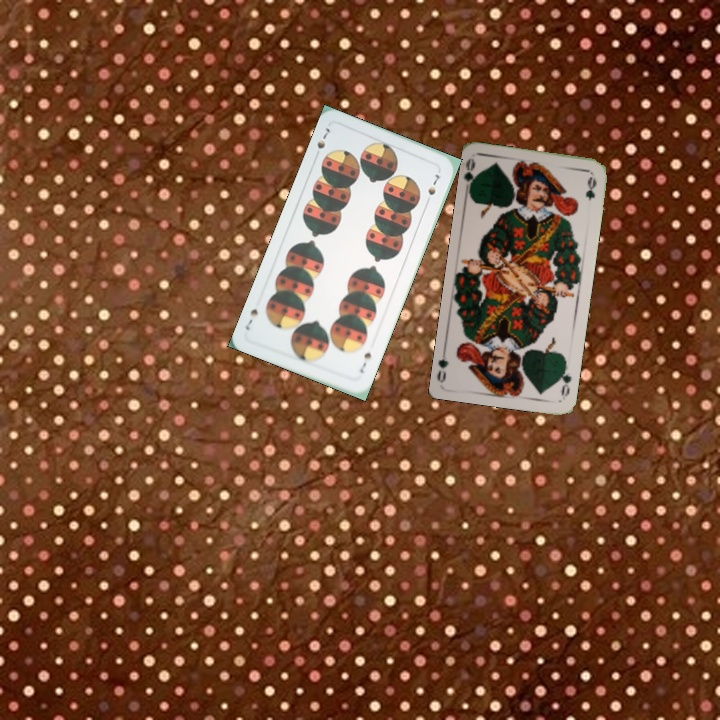GO: (461, 155, 482, 197), (555, 359, 574, 399)
S7: (311, 123, 333, 161), (356, 348, 374, 376)
